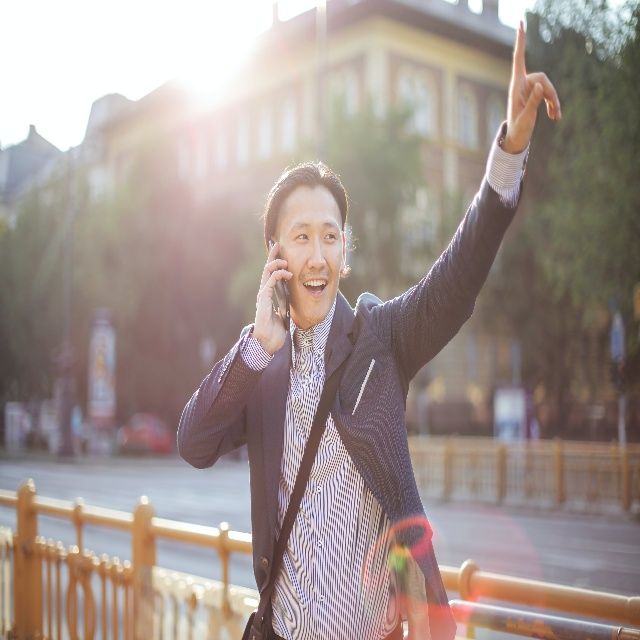Sin_guantes: (506, 19, 561, 154), (253, 242, 287, 351)
